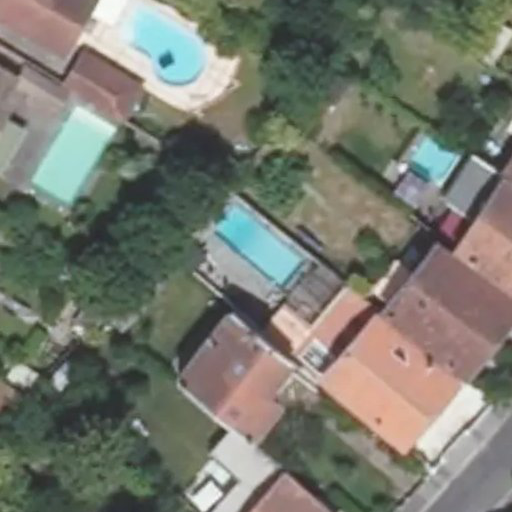pool: (207, 228, 304, 255)
